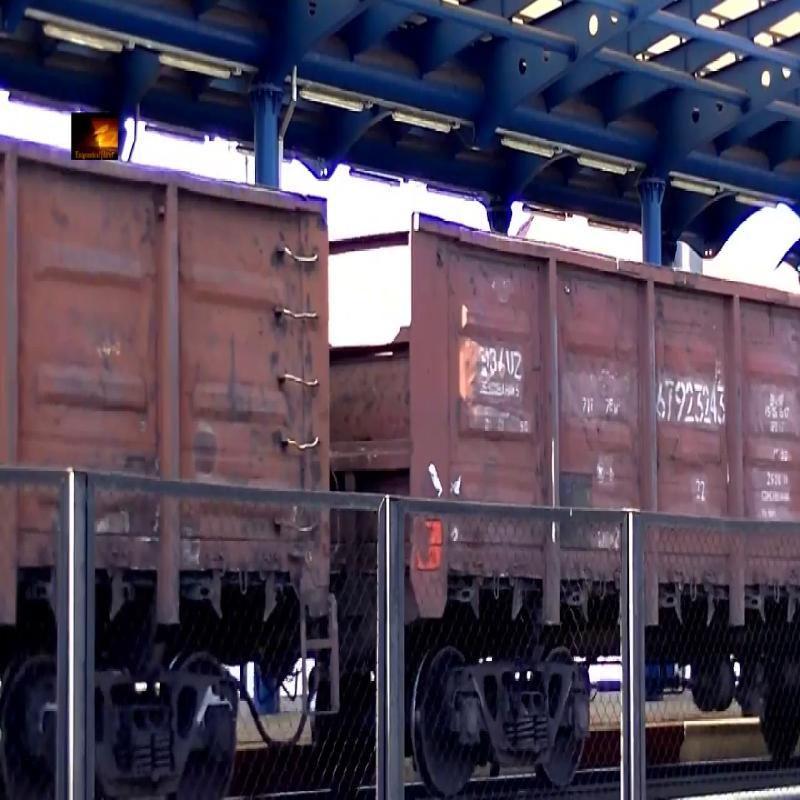train: (400, 46, 800, 765), (2, 46, 379, 766)
